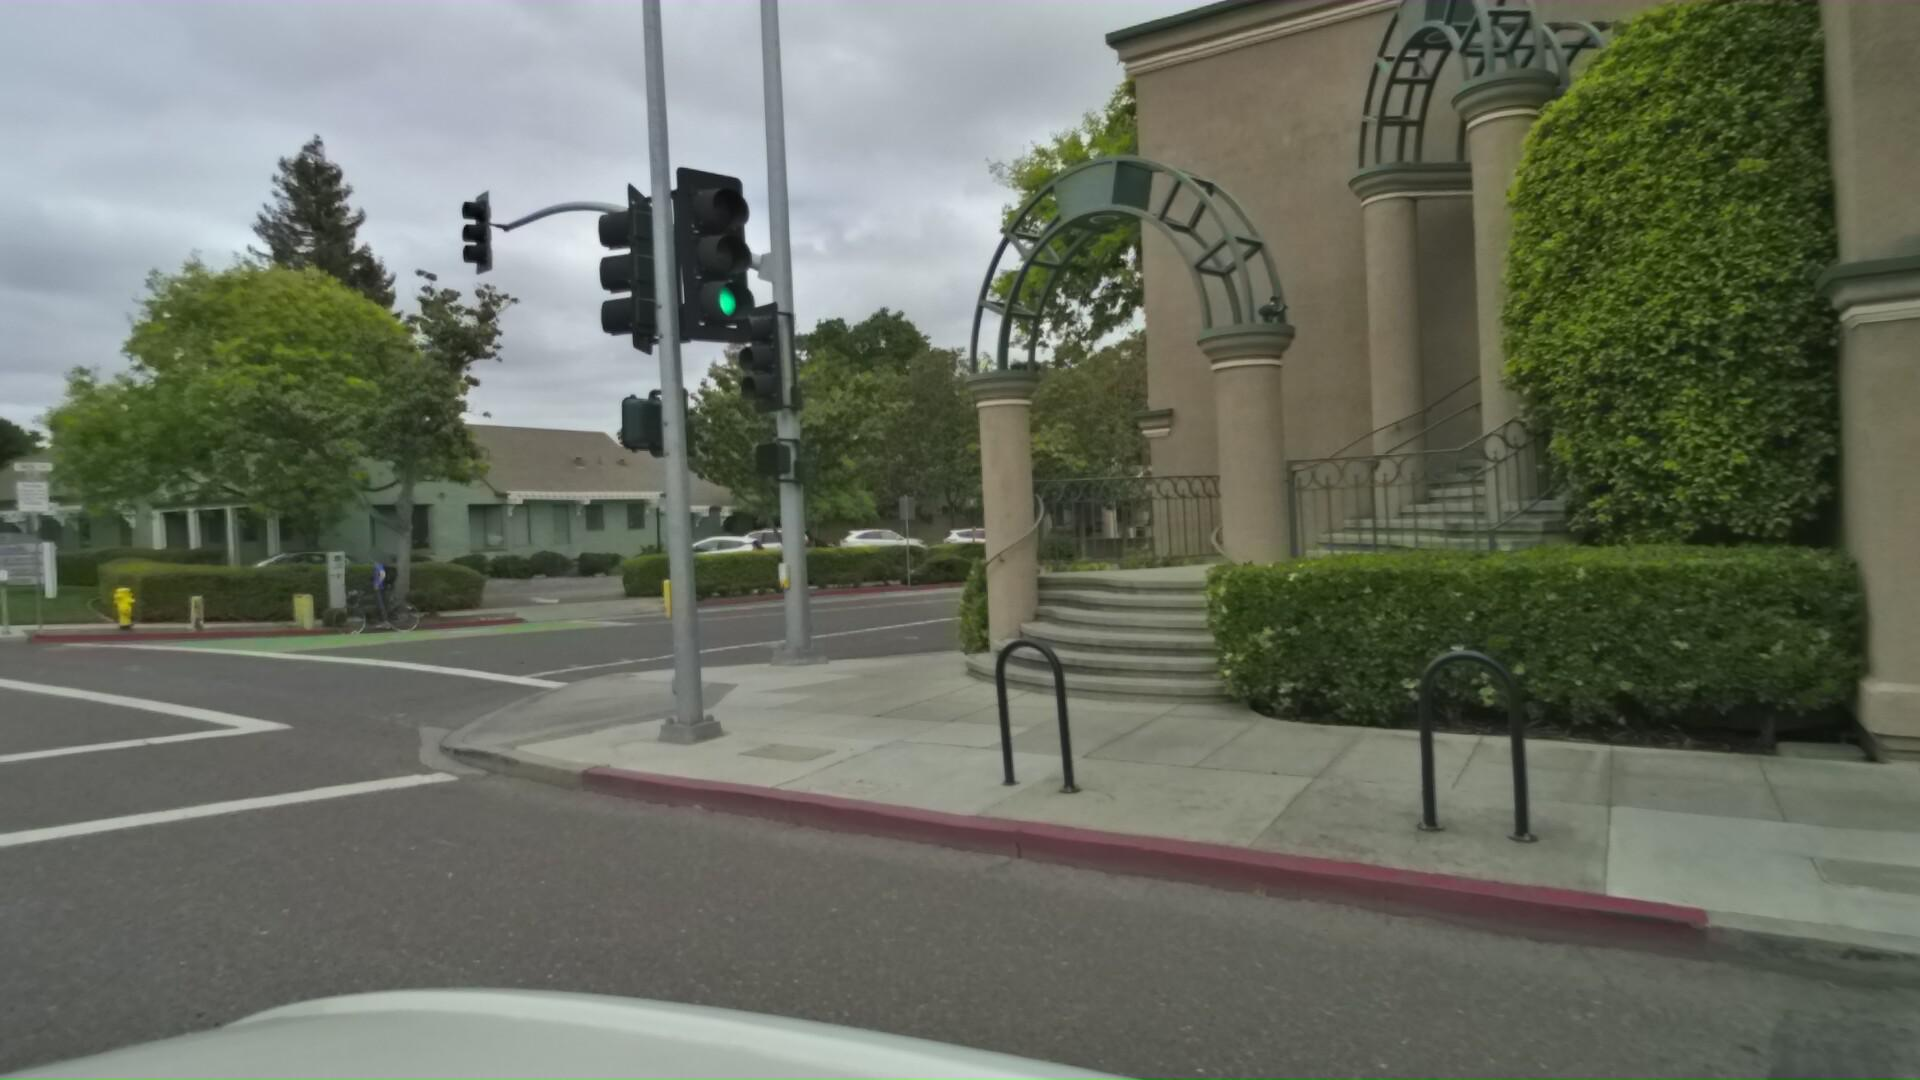bicycle: (326, 538, 438, 634)
car: (189, 539, 386, 621), (945, 516, 1046, 559), (934, 530, 1022, 564)
